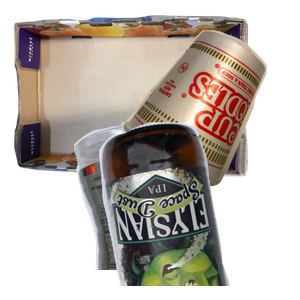cardboard: (11, 13, 251, 182)
glass: (97, 120, 300, 300)
plastic: (71, 120, 265, 300)
trash: (119, 28, 300, 207)
